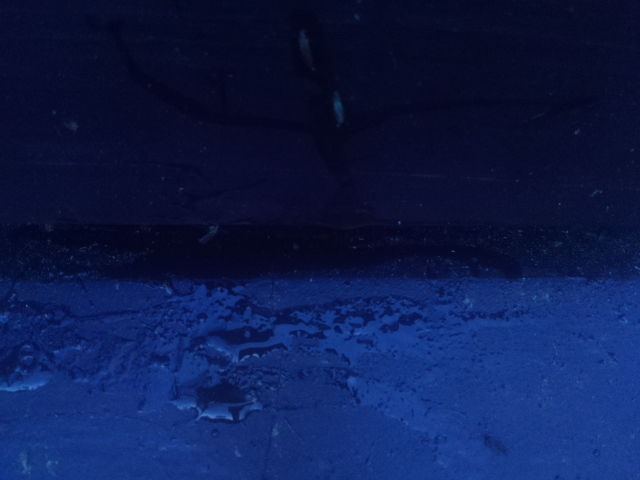ant: (5, 336, 37, 392)
